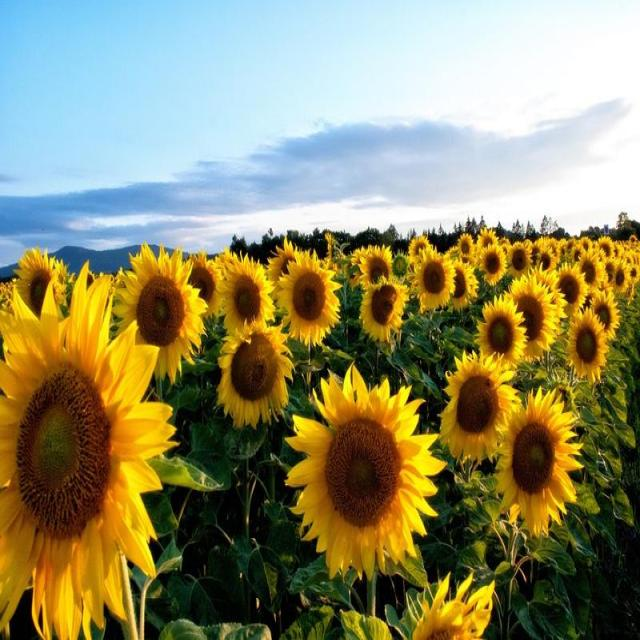sunflower: (0, 281, 180, 640), (278, 366, 426, 579), (103, 241, 216, 381), (494, 373, 577, 535), (222, 318, 298, 453), (444, 343, 511, 476), (276, 248, 352, 361), (216, 240, 270, 345), (481, 295, 534, 379), (356, 275, 414, 347), (506, 272, 561, 345), (566, 307, 620, 381), (411, 246, 452, 310), (354, 240, 400, 288), (576, 248, 610, 292), (477, 240, 506, 286), (508, 236, 534, 278)
